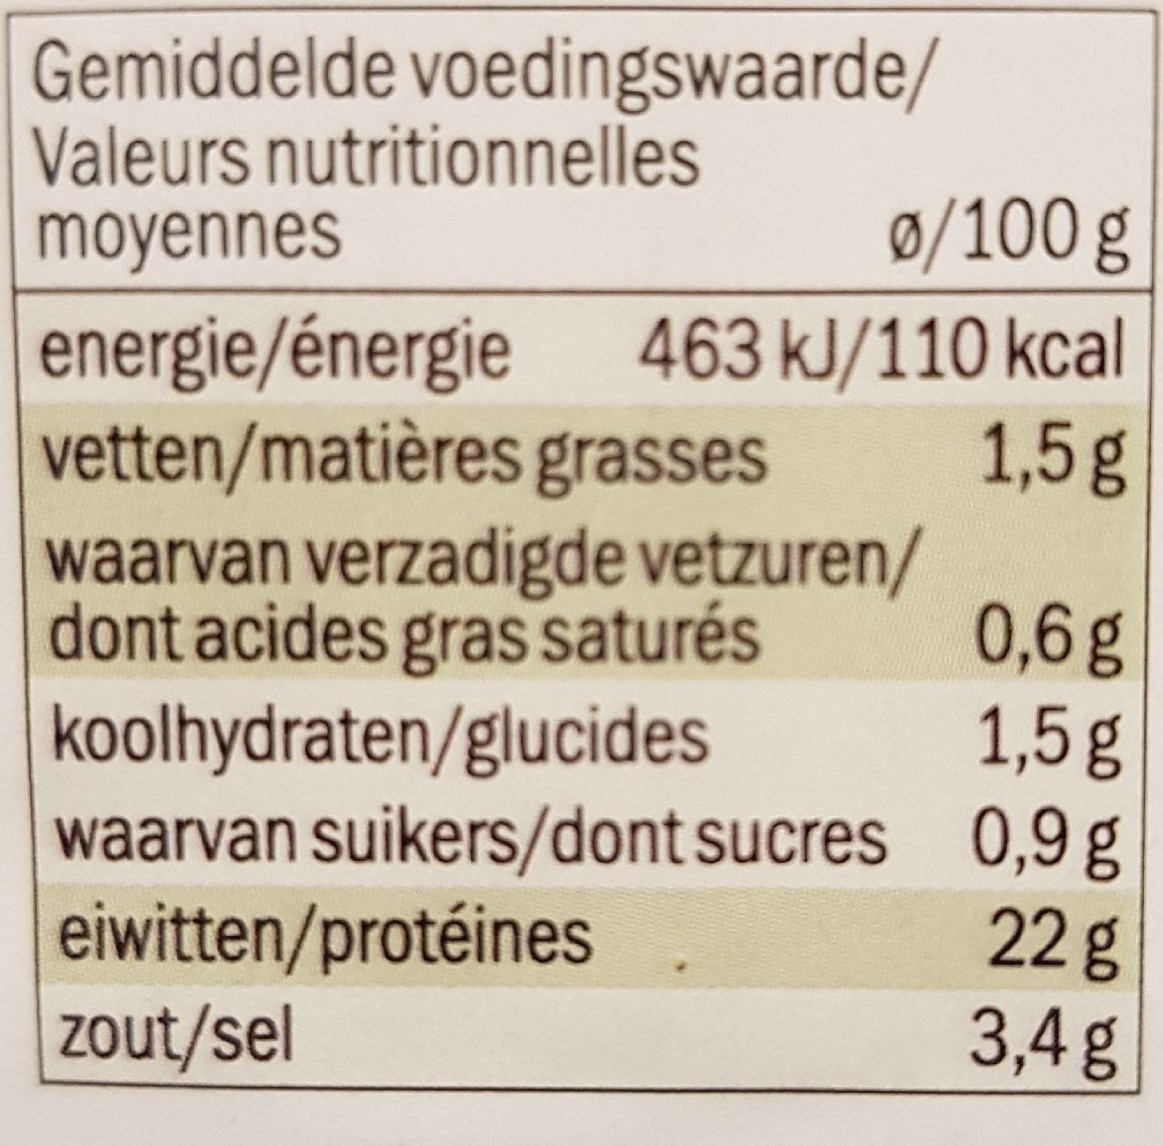column: (14, 295, 884, 1092), (887, 293, 1142, 1091)
table: (3, 12, 1142, 1098)
